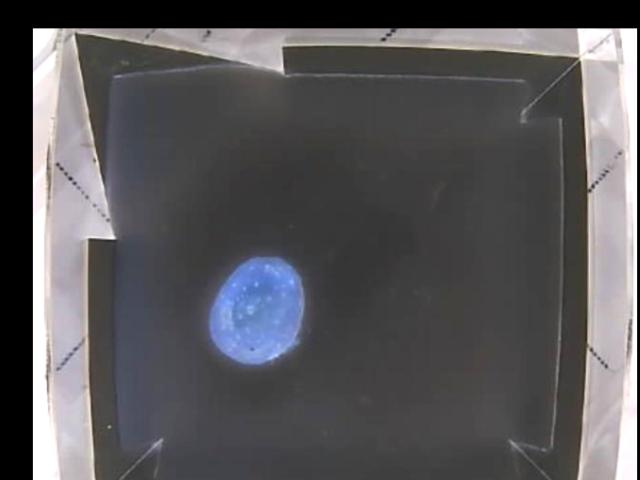Potato: (208, 254, 304, 364)
